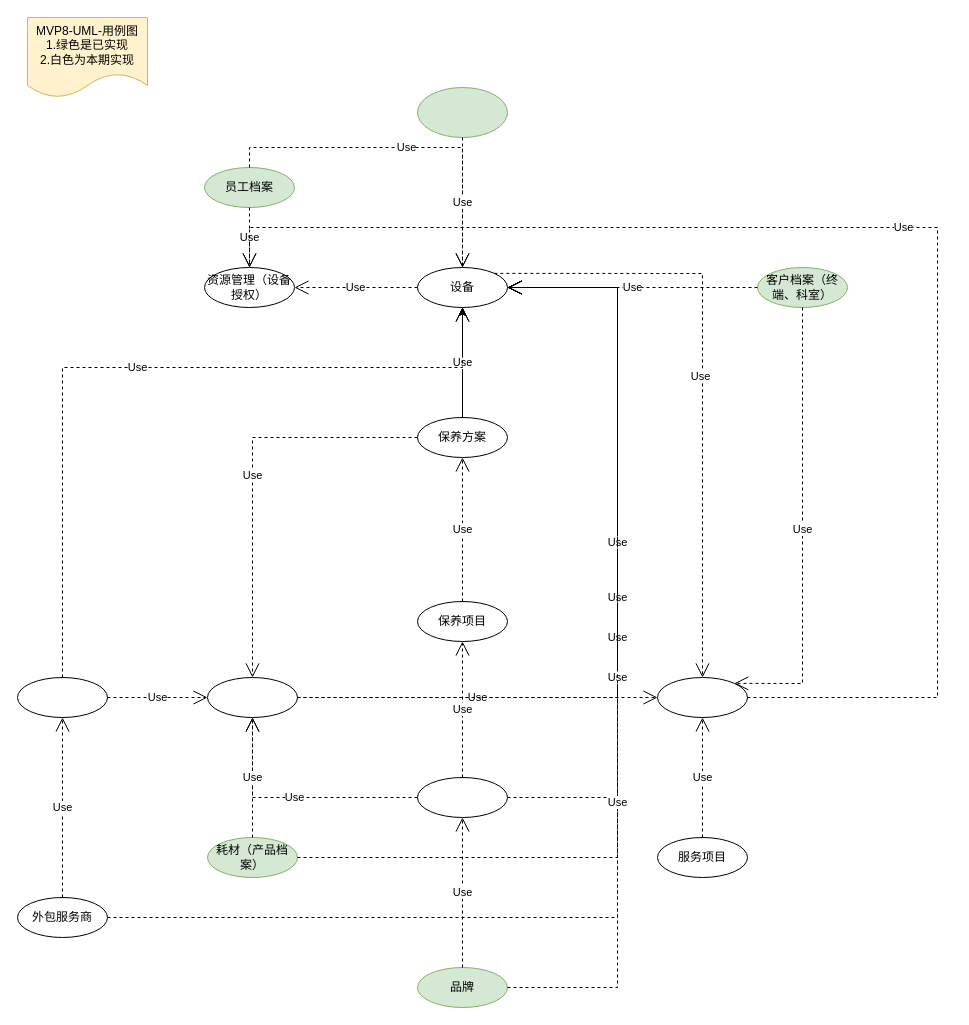
This 969x1025 diagram has some shape labels left out. The shapes that lost their labels are listed below. From the top down, each one's centre as x and y in pixels, then its label:
At (x=462, y=112): "生产厂家".
At (x=62, y=697): "工程师".
At (x=252, y=697): "设备型号".
At (x=702, y=697): "售后协议".
At (x=462, y=797): "配件".
